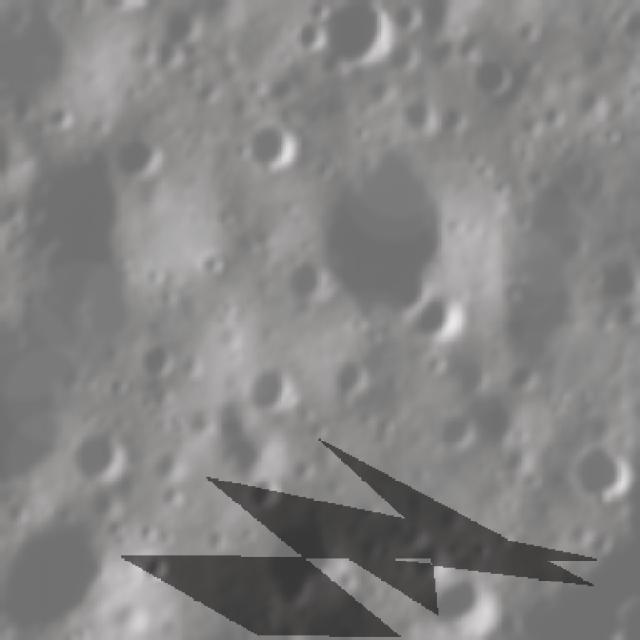crater: (326, 142, 494, 320), (0, 504, 132, 640), (242, 503, 358, 619), (0, 1, 98, 110), (291, 0, 394, 75), (424, 563, 501, 640), (62, 422, 136, 486), (565, 440, 637, 497), (244, 113, 307, 176), (234, 357, 300, 417), (402, 289, 464, 349), (269, 247, 334, 304), (106, 122, 172, 178), (587, 251, 640, 311), (462, 51, 522, 98), (327, 348, 381, 400), (0, 118, 35, 198), (132, 337, 185, 381), (184, 242, 233, 283), (384, 36, 428, 75), (387, 0, 428, 37)
